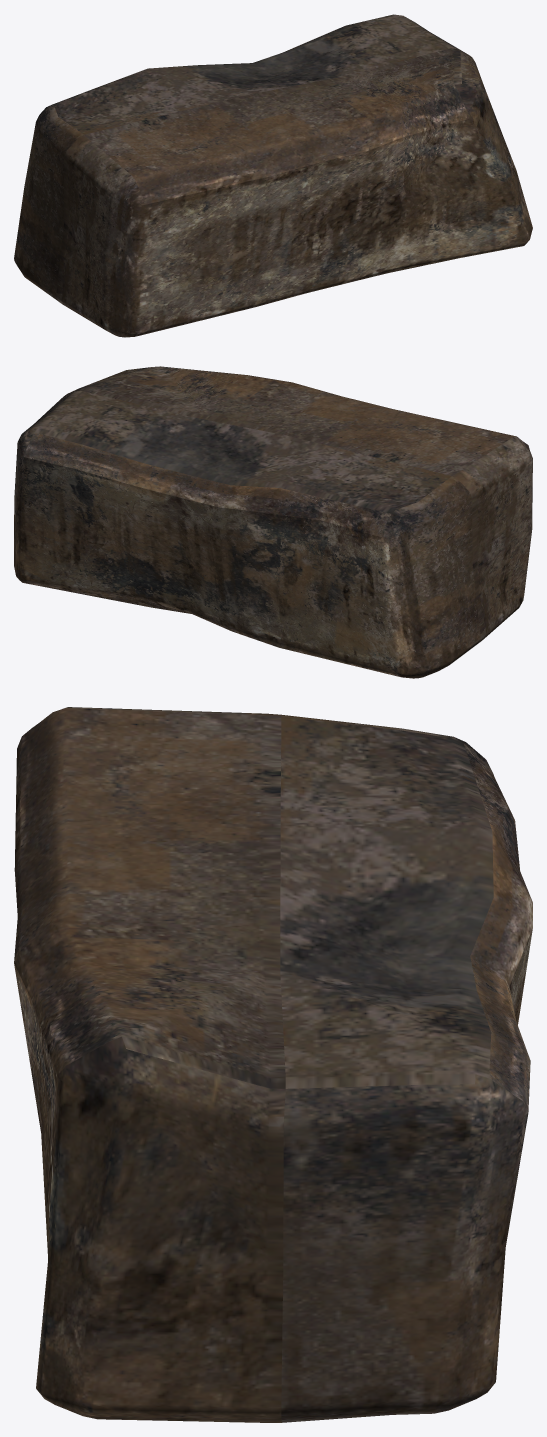
File: wall_taureg_blocks01_detail_02.dae
3 views of the same model, one above another, from view 1: azimuth 30°, elevation 25°; view 2: azimuth 150°, elevation 25°; view 3: azimuth 270°, elevation 25° (orthographic). The views are drawn at different scales.
Visible parts, largest first — view 1: wall_taureg_blocks_01_detail_02; view 2: wall_taureg_blocks_01_detail_02; view 3: wall_taureg_blocks_01_detail_02.
Part boxes in pixels (x1,y1,x2,y2): wall_taureg_blocks_01_detail_02: (14, 14, 532, 337); wall_taureg_blocks_01_detail_02: (14, 366, 532, 678); wall_taureg_blocks_01_detail_02: (14, 707, 532, 1422).
Size of the model in its own units: 116 by 44.84 by 61.25.
